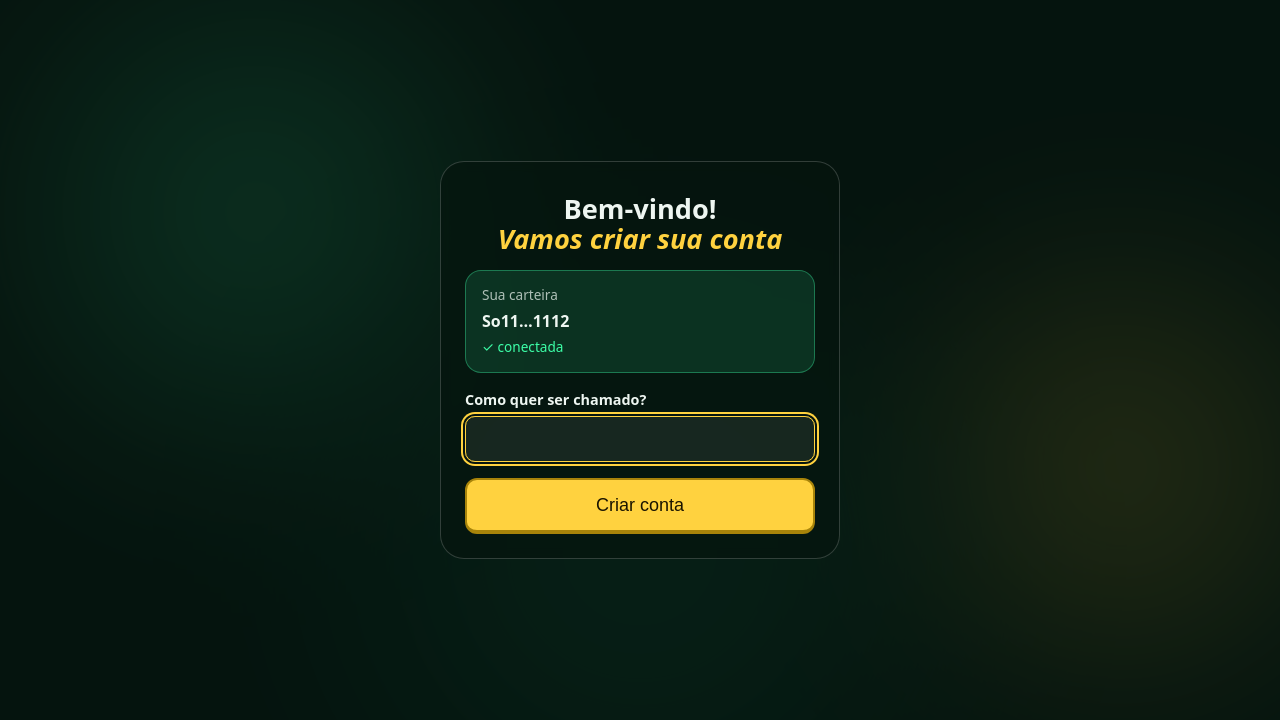
Test: CreateAccount › keeps the typed text on invalid_display_name
Type "A" into the field labelled "Como quer ser chamado?" at (640, 439), box left=465, top=416, right=815, bottom=462
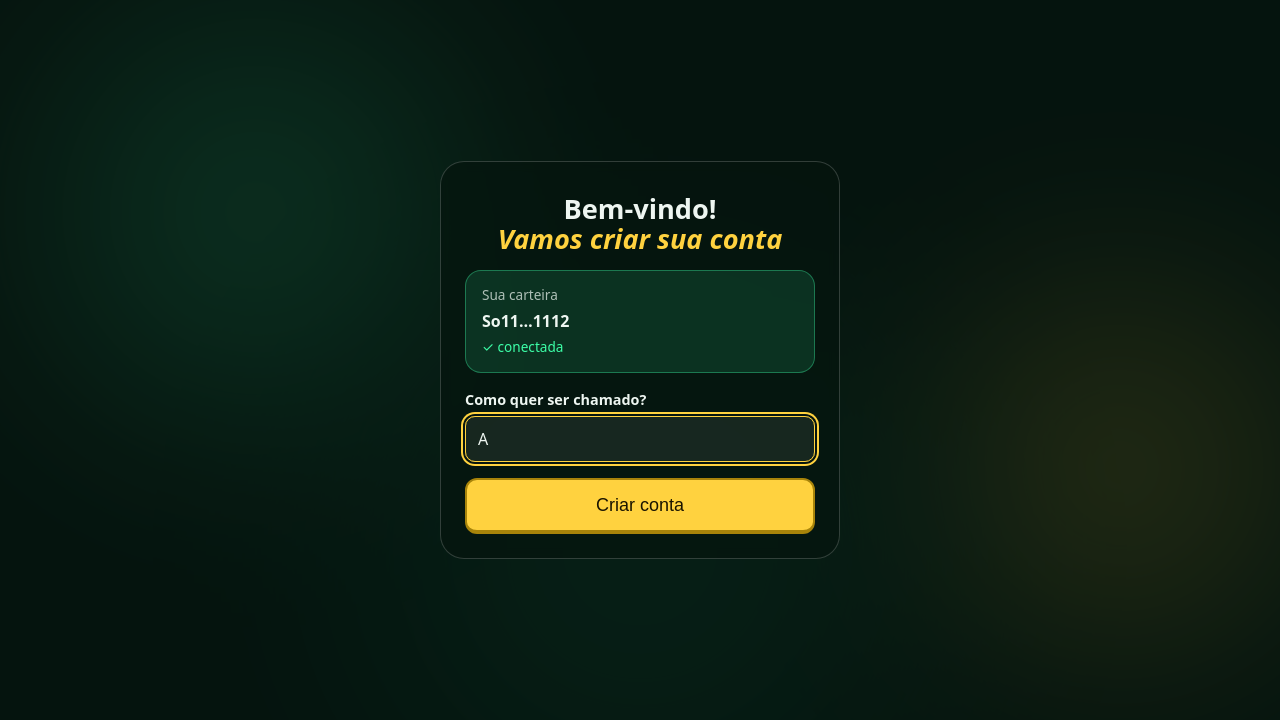
Click the button "Criar conta" at (640, 506), box left=465, top=478, right=815, bottom=534
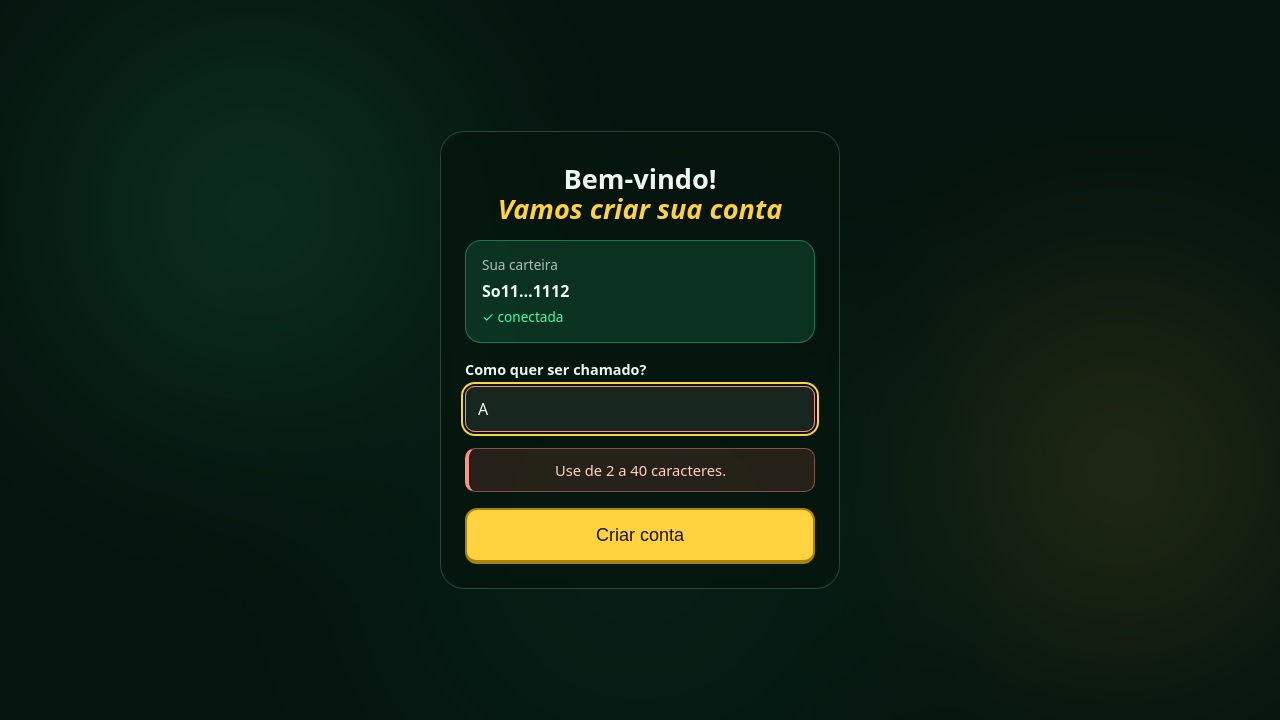
Check: the text "Use de 2 a 40 caracteres." is shown, box left=465, top=448, right=815, bottom=492
